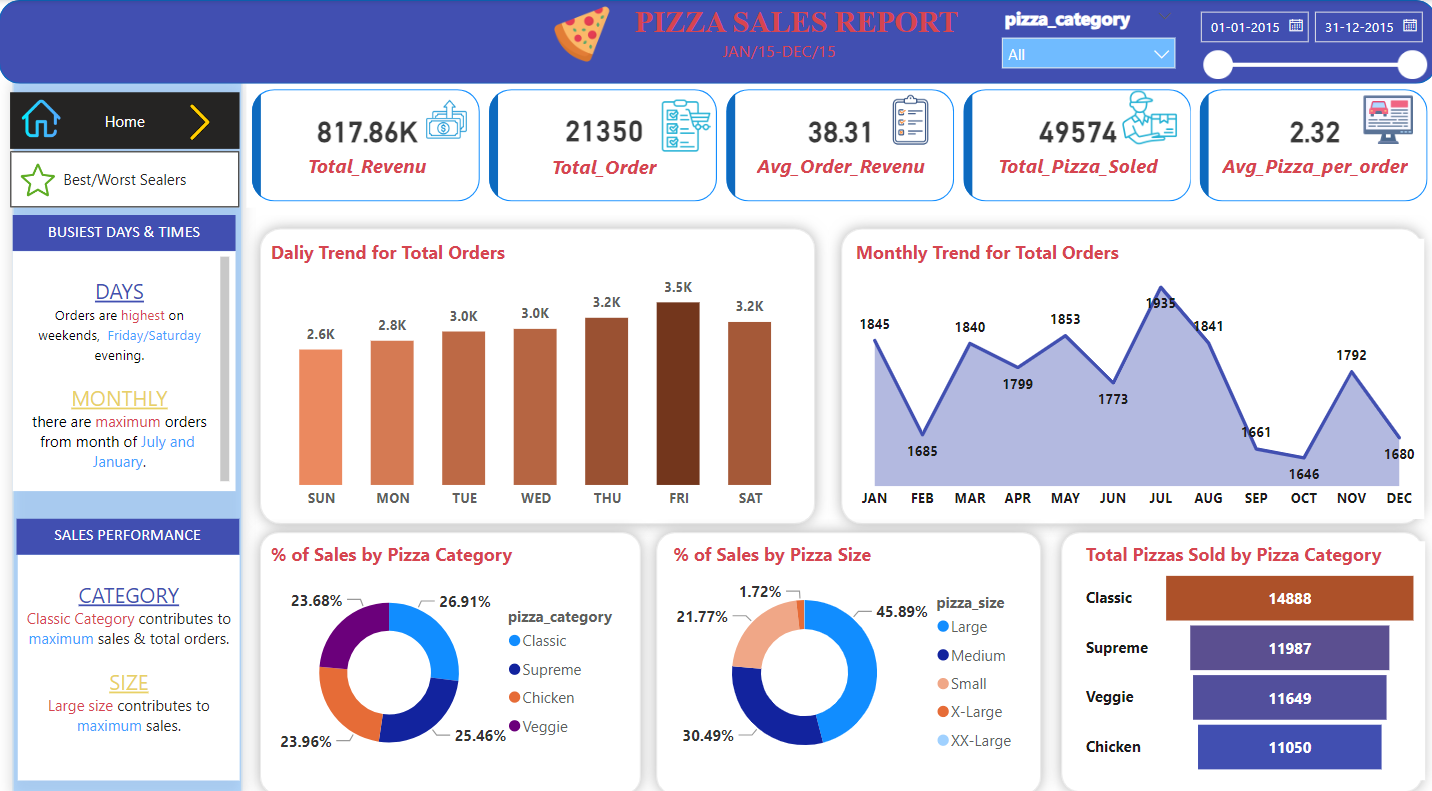

Layout of this report page (visuals, bound fields, positions):
{"tool":"powerbi","page":{"name":"Home","canvas":[1280,720],"ordinal":0},"visuals":[{"type":"shape","box":[0,61.1,228.7,659.1],"z":0},{"type":"cardVisual","fields":{"Data":["pizza_sales.Total_Revenu","pizza_sales.Total_Order","pizza_sales.Avg_Order_Revenu","pizza_sales.Total_Pizza_Soled","pizza_sales.Avg_Pizza_per_order"]},"box":[220.1,74.6,1060.2,110.1],"z":1000},{"type":"shape","box":[0,0,1280.3,74.6],"z":2000},{"type":"textbox","box":[479.4,0,461,47.7],"z":3000},{"type":"textbox","box":[563.7,30.6,262.9,30.6],"z":4000},{"type":"image","box":[474.5,0,89.3,61.1],"z":5000},{"type":"image","box":[782.6,79.5,58.7,55],"z":6000},{"type":"image","box":[583.3,79.5,57.5,64.8],"z":7000},{"type":"image","box":[373,79.5,51.4,55],"z":8000},{"type":"image","box":[990.5,74.6,67.3,59.9],"z":9000},{"type":"image","box":[1205.7,79.5,63.6,55],"z":10000},{"type":"shape","box":[220.1,192,518.5,287.4],"z":11000},{"type":"columnChart","title":"Daliy Trend for Total Orders","fields":{"Category":["pizza_sales.Order_Day"],"Y":["pizza_sales.Total_Order"]},"box":[237.2,212.8,483,249.5],"z":12000},{"type":"shape","box":[738.6,192,541.7,287.4],"z":13000},{"type":"textbox","box":[12.2,192,198.1,31.8],"z":14000},{"type":"areaChart","title":"Monthly Trend for Total Orders","fields":{"Y":["pizza_sales.Total_Order"],"Category":["pizza_sales.Order_Month"]},"box":[758.2,212.8,511.1,249.5],"z":15000},{"type":"shape","box":[220.1,462.2,363.2,258],"z":16000},{"type":"shape","box":[934.2,462.2,346.1,255.6],"z":17000},{"type":"shape","box":[573.5,462.2,366.8,258],"z":18000},{"type":"donutChart","title":"% of Sales by Pizza Category","fields":{"Category":["pizza_sales.pizza_category"],"Y":["pizza_sales.Total_Revenu"]},"box":[237.2,481.8,328.9,212.8],"z":19000},{"type":"donutChart","title":"% of Sales by Pizza Size","fields":{"Category":["pizza_sales.pizza_size"],"Y":["pizza_sales.Total_Revenu"]},"box":[595.5,481.8,324.1,212.8],"z":20000},{"type":"funnel","title":"Total Pizzas Sold by Pizza Category","fields":{"Category":["pizza_sales.pizza_category"],"Y":["pizza_sales.Total_Pizza_Soled"]},"box":[962.4,481.8,306.9,212.8],"z":21000},{"type":"textbox","box":[12.2,223.8,198.1,214],"z":22000},{"type":"textbox","box":[16.2,494.1,197.9,200.6],"z":23000},{"type":"textbox","box":[15.9,462.2,198.1,31.8],"z":24000},{"type":"slicer","fields":{"Values":["pizza_sales.pizza_category"]},"box":[882.9,0,174.9,61.1],"z":25000},{"type":"slicer","fields":{"Values":["pizza_sales.order_date"]},"box":[1057.8,0,222.6,74.6],"z":26000},{"type":"pageNavigator","box":[9.8,81.9,204.2,50.1],"z":27000},{"type":"pageNavigator","box":[9.8,134.5,204.2,50.1],"z":28000},{"type":"image","box":[146.7,88,63.6,41.6],"z":29000},{"type":"image","box":[15.9,83.2,44,44],"z":30000},{"type":"image","box":[12.2,140.6,44,40.4],"z":31000}]}

Visuals, with their boxes in screenshot pixels (x1, y1, x2, y2), scaled from the page's 1280x720 canvas onto the 1432x791 screenshot:
shape: detection(0, 67, 256, 790)
cardVisual - pizza_sales.Total_Revenu x pizza_sales.Total_Order: detection(246, 82, 1431, 203)
shape: detection(0, 0, 1431, 82)
textbox: detection(536, 0, 1052, 52)
textbox: detection(631, 34, 925, 67)
image: detection(531, 0, 631, 67)
image: detection(876, 87, 941, 148)
image: detection(653, 87, 717, 159)
image: detection(417, 87, 475, 148)
image: detection(1108, 82, 1183, 148)
image: detection(1349, 87, 1420, 148)
shape: detection(246, 211, 826, 527)
"Daliy Trend for Total Orders" columnChart: detection(265, 234, 806, 508)
shape: detection(826, 211, 1431, 527)
textbox: detection(14, 211, 235, 246)
"Monthly Trend for Total Orders" areaChart: detection(848, 234, 1420, 508)
shape: detection(246, 508, 653, 790)
shape: detection(1045, 508, 1431, 789)
shape: detection(642, 508, 1052, 790)
"% of Sales by Pizza Category" donutChart: detection(265, 529, 633, 763)
"% of Sales by Pizza Size" donutChart: detection(666, 529, 1029, 763)
"Total Pizzas Sold by Pizza Category" funnel: detection(1077, 529, 1420, 763)
textbox: detection(14, 246, 235, 481)
textbox: detection(18, 543, 240, 763)
textbox: detection(18, 508, 239, 543)
slicer - pizza_sales.pizza_category: detection(988, 0, 1183, 67)
slicer - pizza_sales.order_date: detection(1183, 0, 1431, 82)
pageNavigator: detection(11, 90, 239, 145)
pageNavigator: detection(11, 148, 239, 203)
image: detection(164, 97, 235, 142)
image: detection(18, 91, 67, 140)
image: detection(14, 154, 63, 199)
